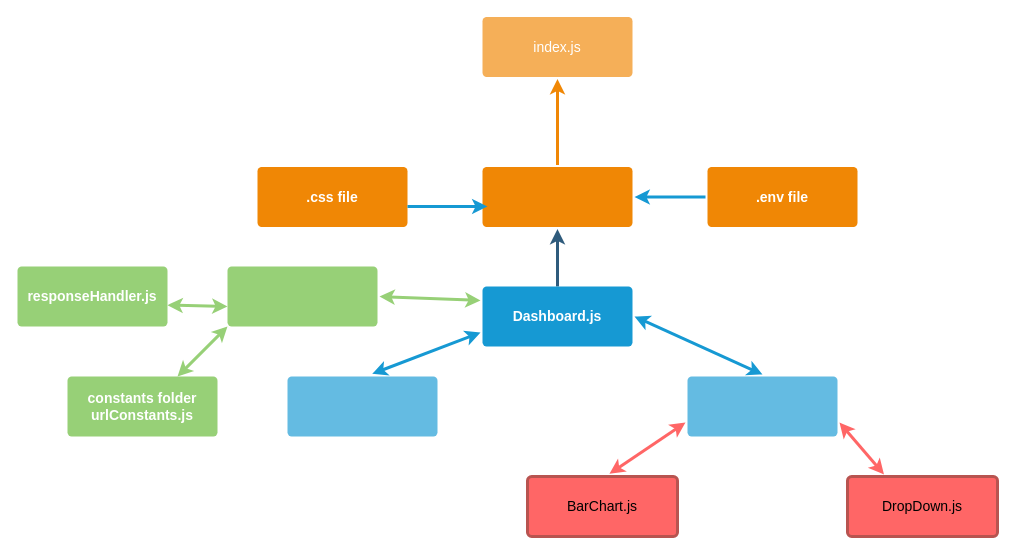
Some shapes in this 1016 by 555 pixel diagram are drawn without their labels. Each missing label, with the box of its shape:
App.js: (482, 166, 632, 226)
SearchBar.js: (287, 376, 437, 436)
services folder index.js: (227, 266, 377, 326)
WeatherChart.js: (687, 376, 837, 436)
